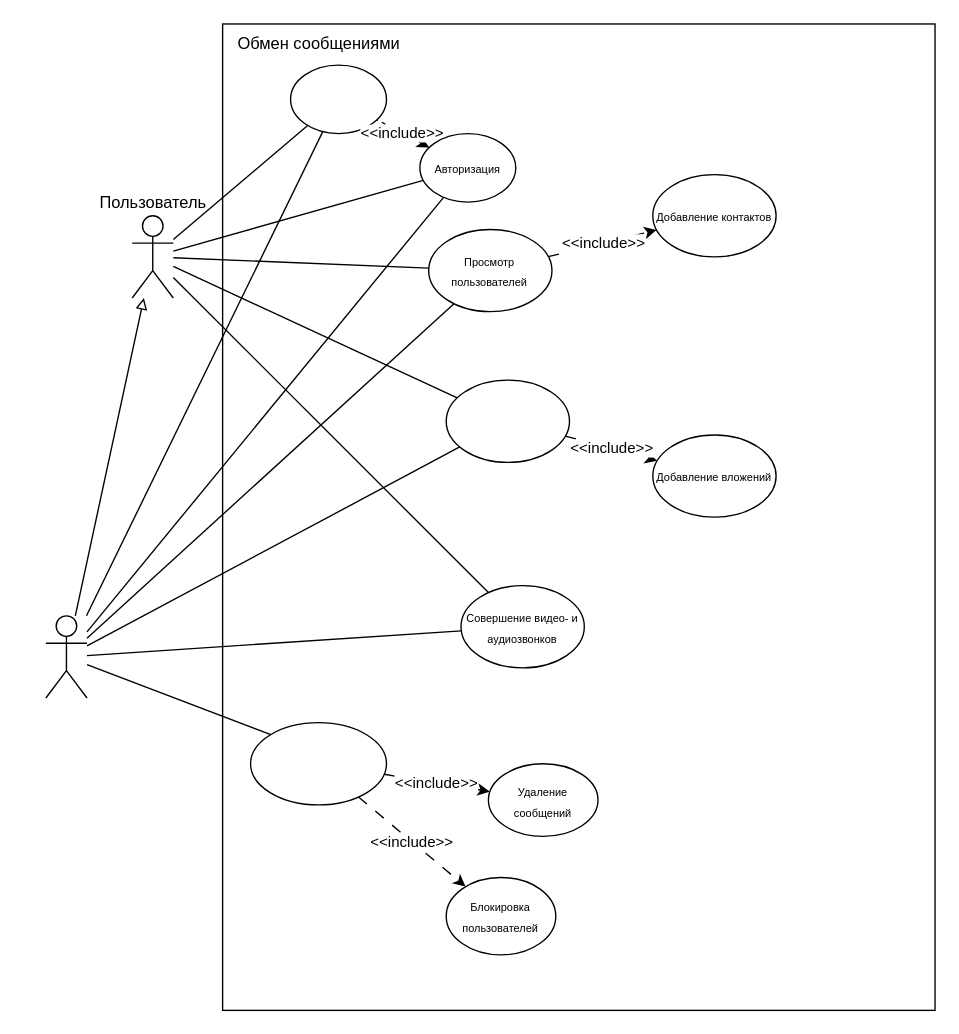
The diagram is 959 pixels wide and 1034 high, and some of its shapes have lost their labels. Each missing label, with the box of its shape:
Модератор: (45, 614, 87, 698)
Отправка сообщений: (445, 379, 570, 462)
Просмотр сообщений с жалобами: (249, 721, 386, 805)
Регистрация: (289, 64, 386, 134)
